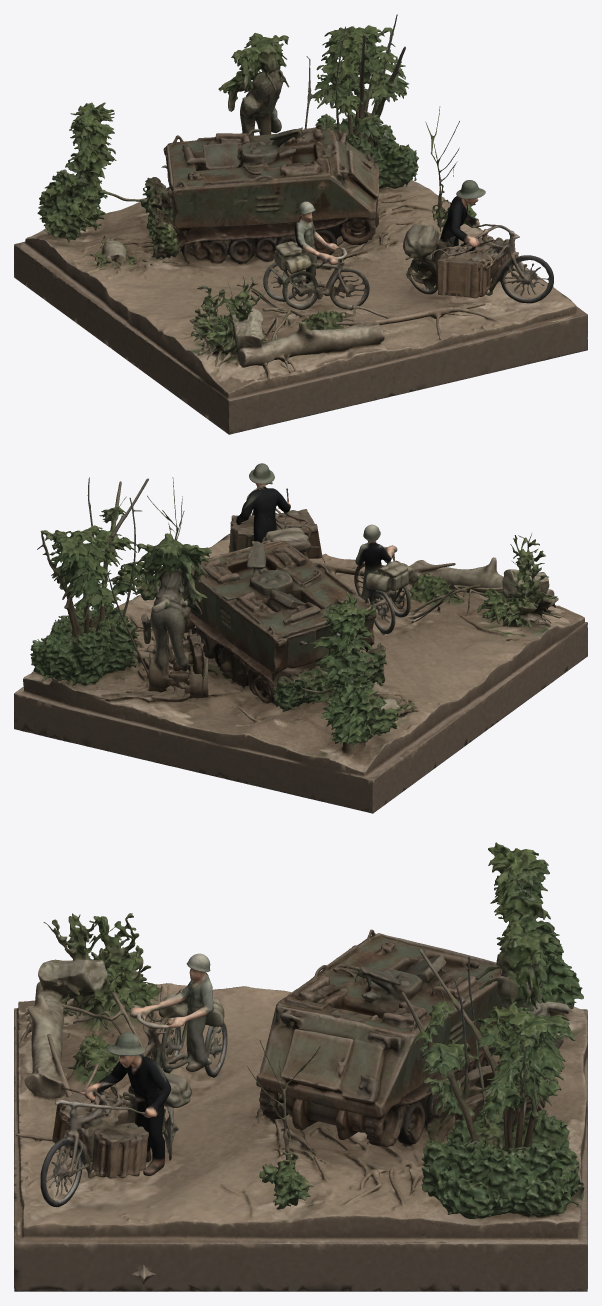
Rendered from danh_bai_hai_mua_kho.glb.
3 renders of one model, top to bottom at view 1: azimuth 30°, elevation 25°; view 2: azimuth 150°, elevation 25°; view 3: azimuth 270°, elevation 25°, orthographic. The views are drawn at different scales.
Bounding box in the file's own units: 1.9 × 1.08 × 1.9.
Materials: 1 (1 with a texture image).
